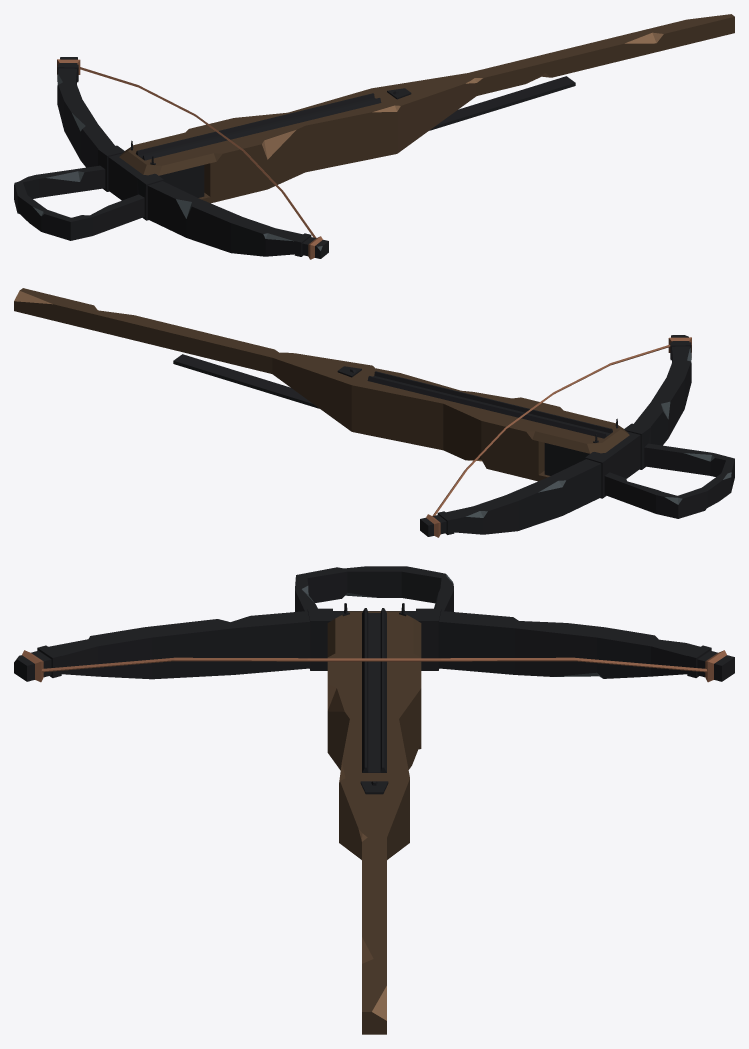
File: Crossbow.gltf
3 renders of one model, top to bottom at view 1: azimuth 30°, elevation 25°; view 2: azimuth 150°, elevation 25°; view 3: azimuth 270°, elevation 25°, orthographic. The views are drawn at different scales.
Parts seen in each view (by area): view 1: Crossbow, Lever_Arm; view 2: Crossbow, Lever_Arm; view 3: Crossbow.
Part boxes in pixels (bbox=[...]): Crossbow: bbox=[14, 14, 734, 259]; Lever_Arm: bbox=[429, 76, 575, 130]; Crossbow: bbox=[14, 288, 734, 537]; Lever_Arm: bbox=[173, 354, 319, 408]; Crossbow: bbox=[14, 566, 734, 1034].
Size of the model in its own units: 0.8837 by 0.0661 by 0.569.
